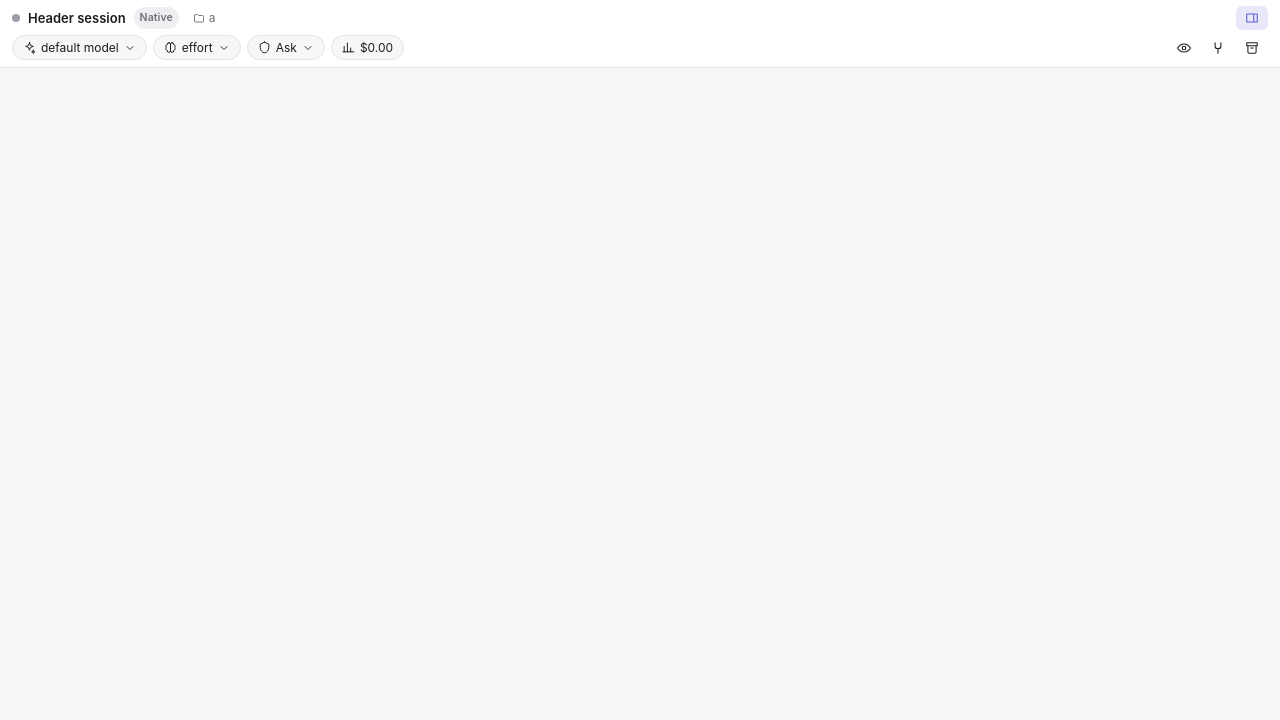
Scenario: header actions › worktree sessions confirm before archive removes the worktree
What coordinates should you click on to do the following:
click the button named "Archive session"
I would click on:
 (1252, 48)
Its box is [1236,36,1268,60].
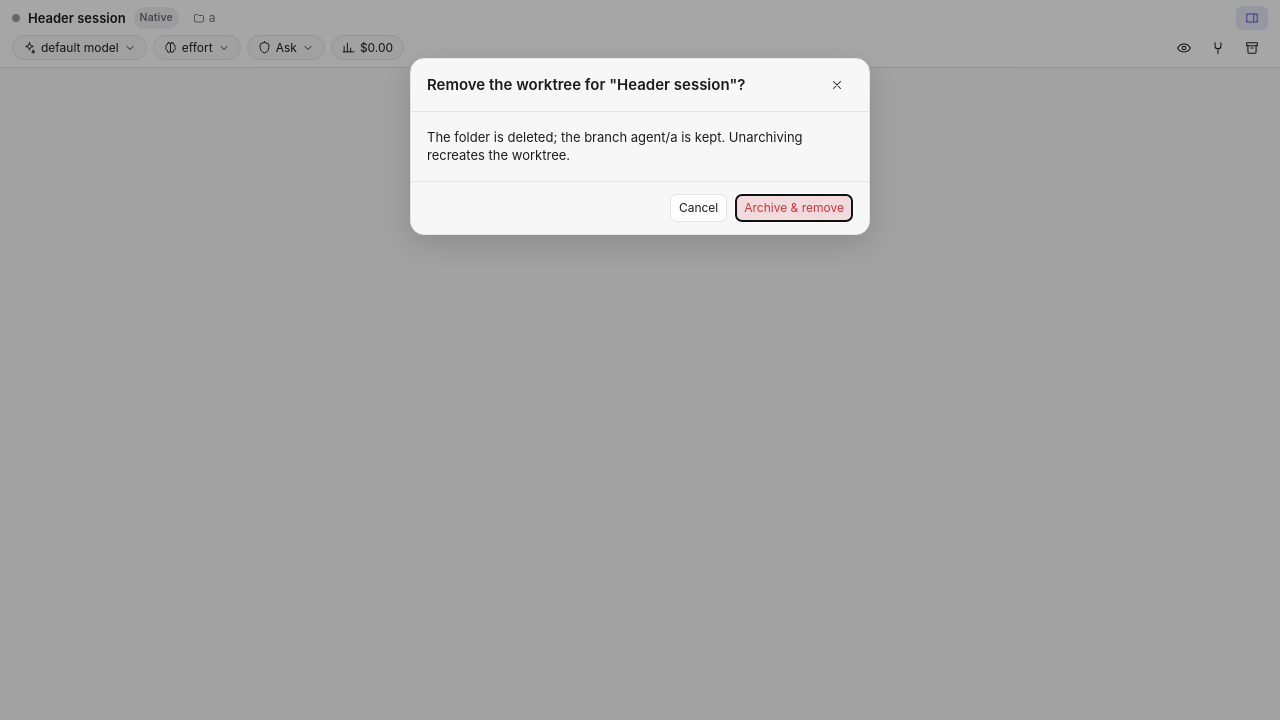
Check: the dialog with class "modal" is shown, box [410,58,870,235]
